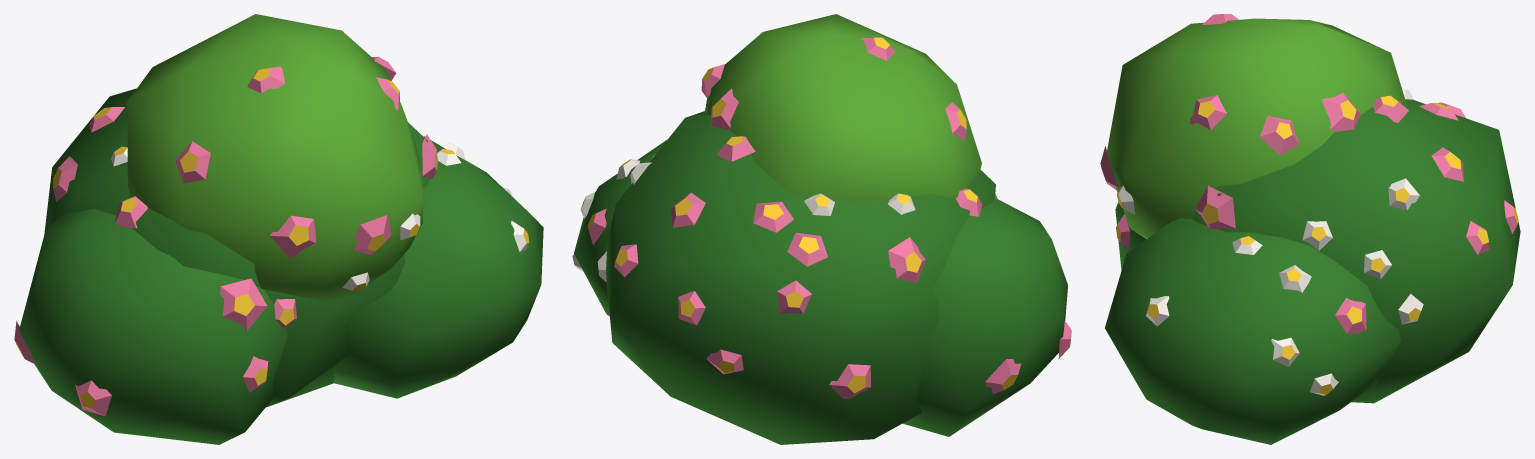
File: bush_flowering.glb
3 views of the same model, side by side, from view 1: azimuth 30°, elevation 25°; view 2: azimuth 150°, elevation 25°; view 3: azimuth 270°, elevation 25° (orthographic). The views are drawn at different scales.
Parts seen in each view (by area): view 1: bush_flowering; view 2: bush_flowering; view 3: bush_flowering.
Part boxes in pixels (x1,y1,x2,y2): bush_flowering: (14,14,543,444); bush_flowering: (572,14,1071,444); bush_flowering: (1100,14,1520,444).
Size of the model in its own units: 1.62 by 1.12 by 1.22.
